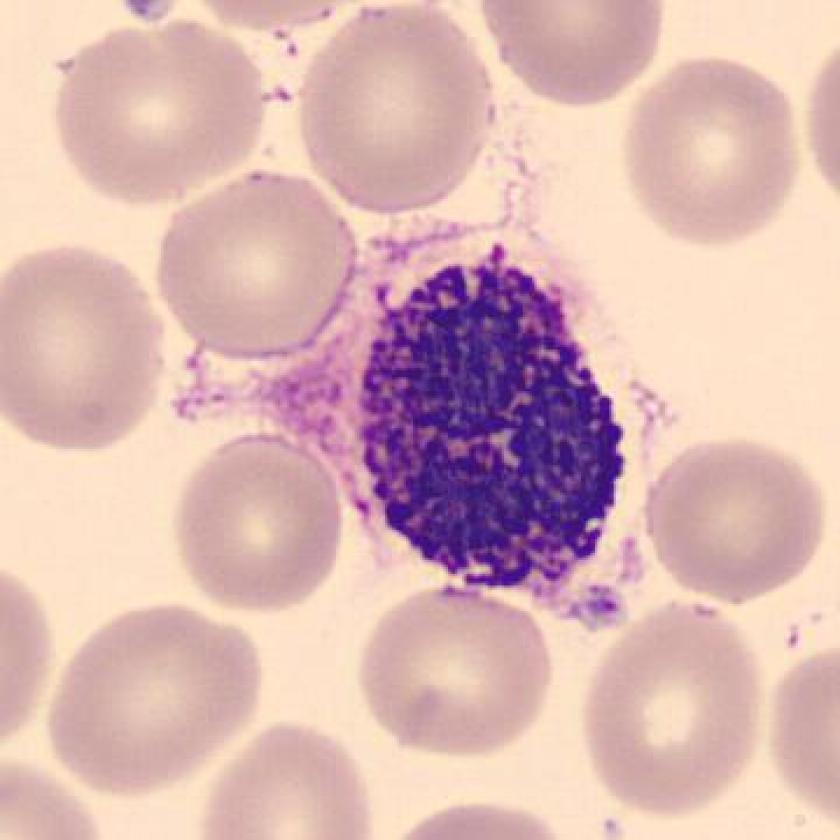basophil: (342, 256, 633, 607)
